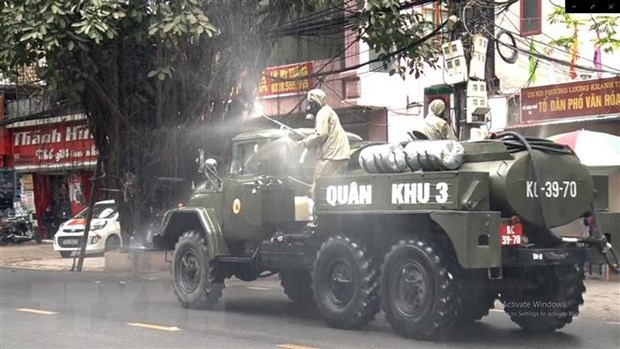plate: (497, 222, 523, 247), (60, 238, 80, 244)
